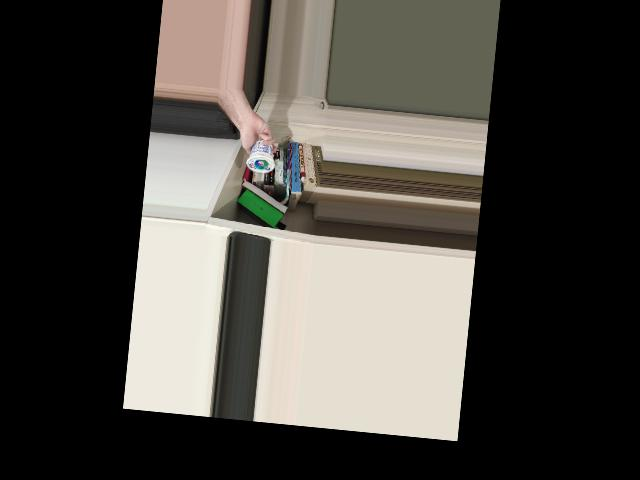cotage: (246, 133, 277, 175)
